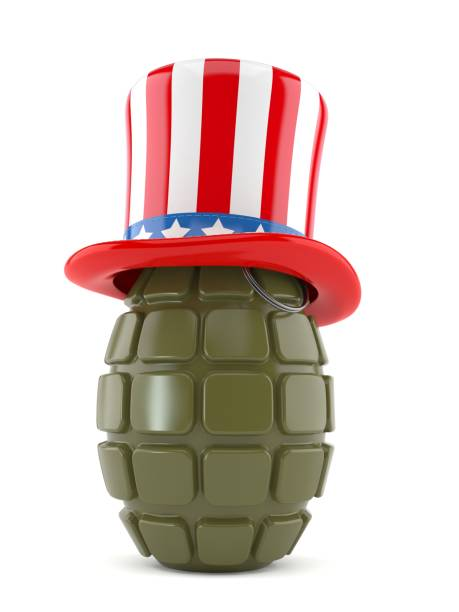e1: (92, 260, 361, 574)
